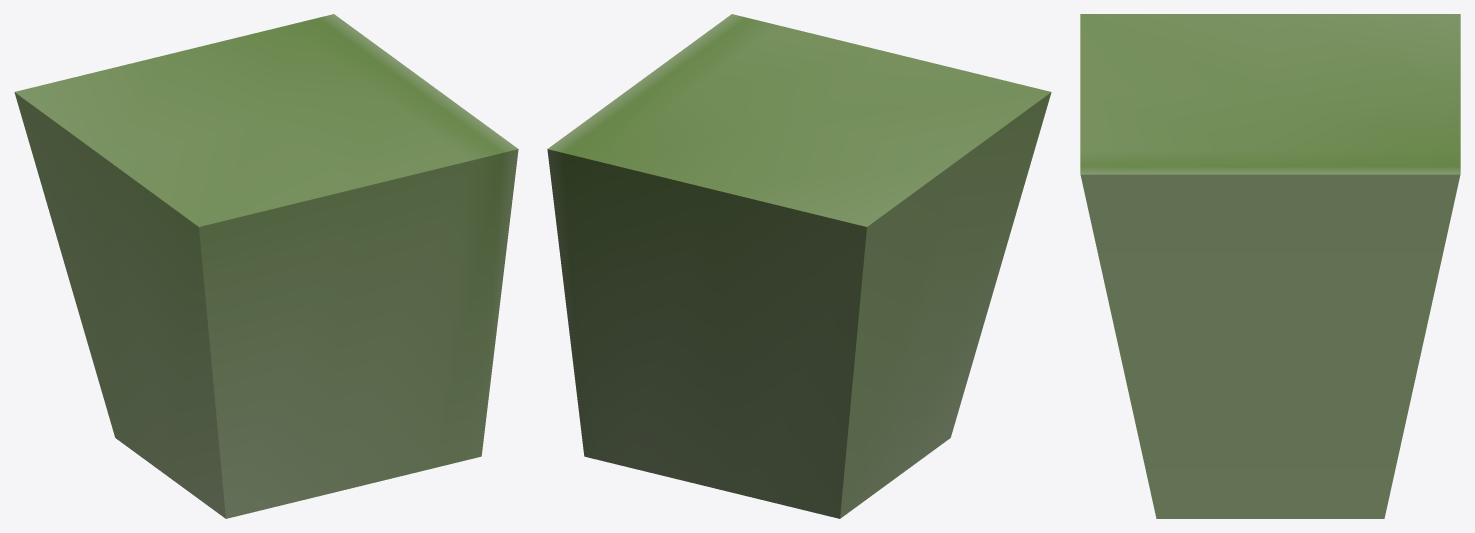
The picture shows the model from 3 angles, left to right: view 1: azimuth 30°, elevation 25°; view 2: azimuth 150°, elevation 25°; view 3: azimuth 270°, elevation 25°; orthographic projection. The views are drawn at different scales.
Parts seen in each view (by area): view 1: 3, 1, 4, 2; view 2: 4, 2, 3, 1; view 3: 1, 2, 3, 4.
Part boxes in pixels (box(x1,y1,x2,y2)): 3: box(107, 120, 358, 518); 1: box(267, 81, 518, 495); 4: box(14, 53, 265, 477); 2: box(174, 14, 425, 120); 4: box(707, 120, 958, 518); 2: box(547, 81, 798, 495); 3: box(800, 53, 1051, 477); 1: box(640, 14, 891, 120); 1: box(1080, 94, 1270, 518); 2: box(1270, 94, 1460, 518); 3: box(1080, 14, 1270, 94); 4: box(1270, 14, 1460, 94).
Bounding box in the file's own units: 200 × 200 × 200.
